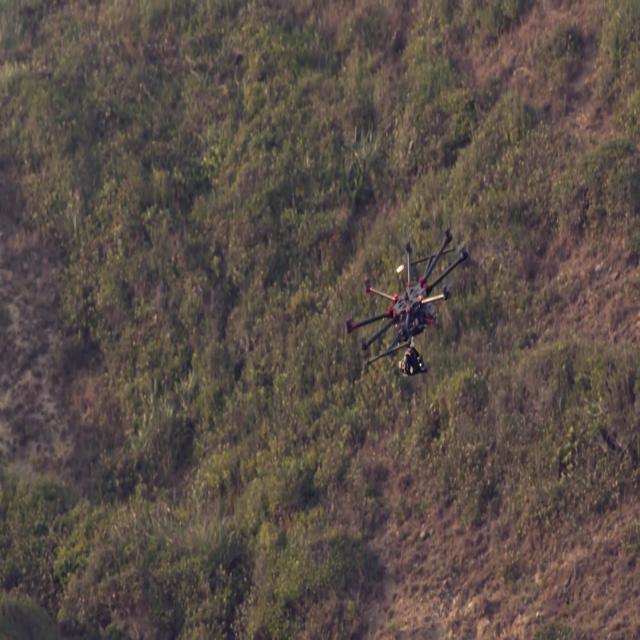drone: (337, 239, 477, 390)
